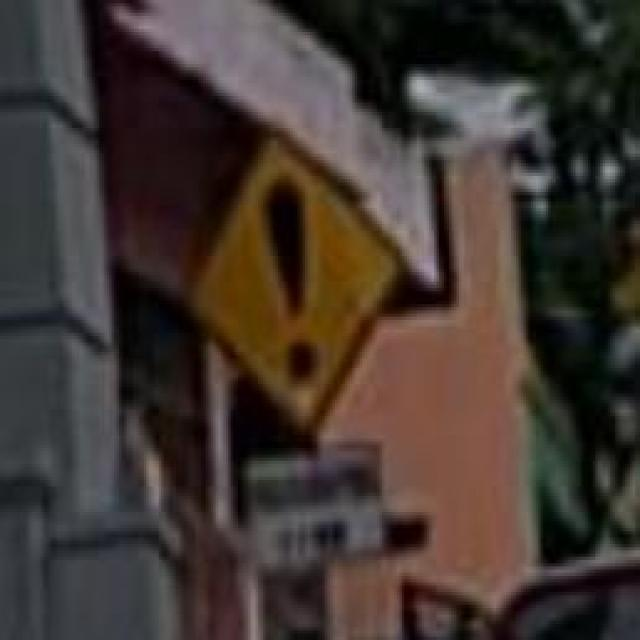traffic sign: (189, 141, 400, 432)
